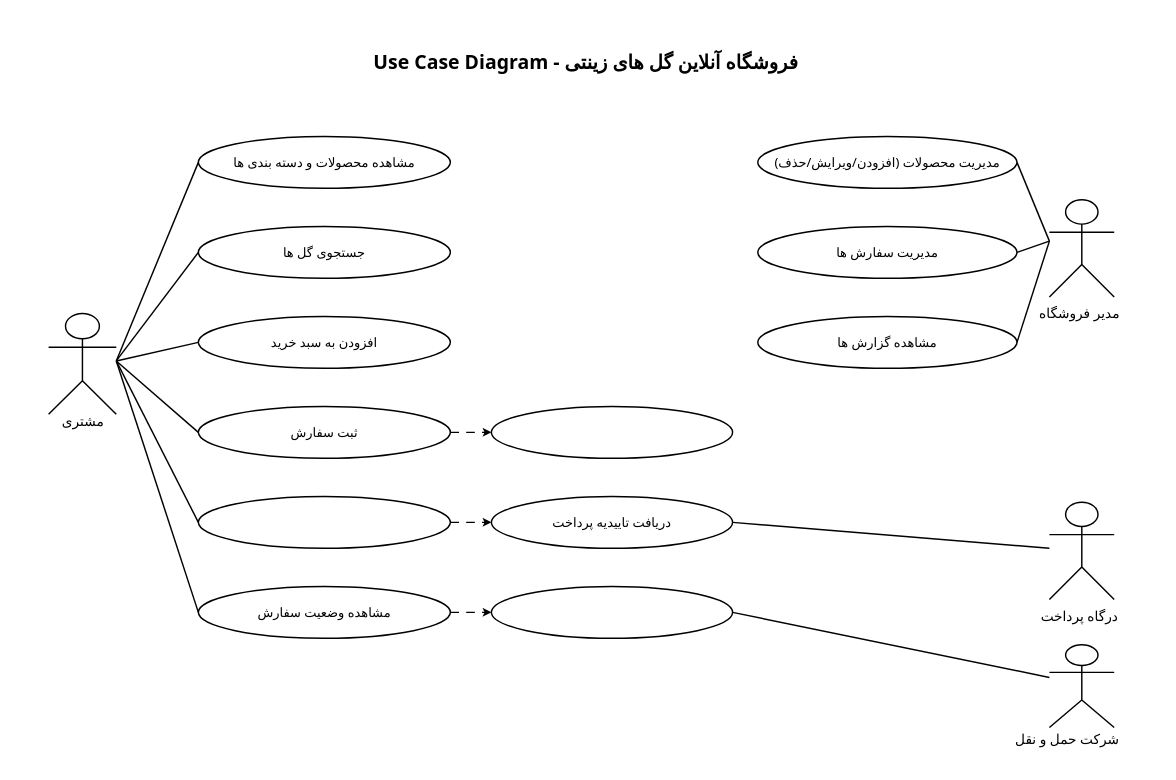
Some shapes in this 1176 by 780 pixel diagram are drawn without their labels. Here are the shapes that lost their labels. From the top down, the centre of each, then its label:
point (611, 432): احراز هویت و ورود به سیستم
point (324, 522): پرداخت آنلاین
point (611, 612): رهگیری مرسوله
